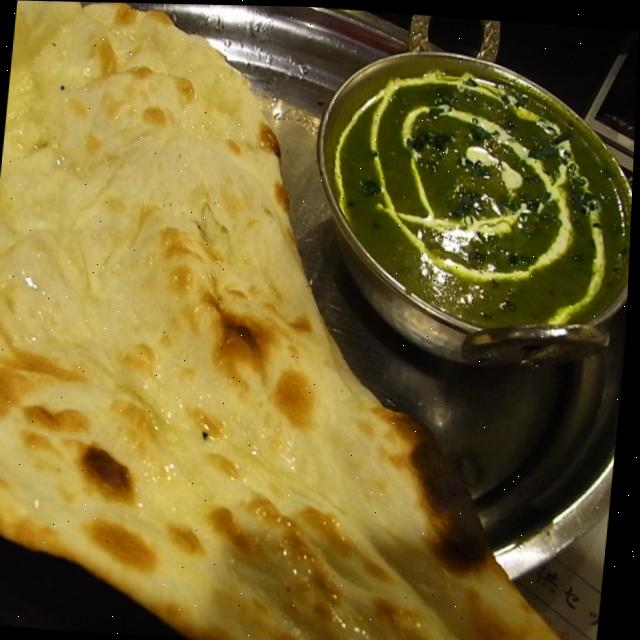牛肉菜式: (297, 36, 639, 357)
